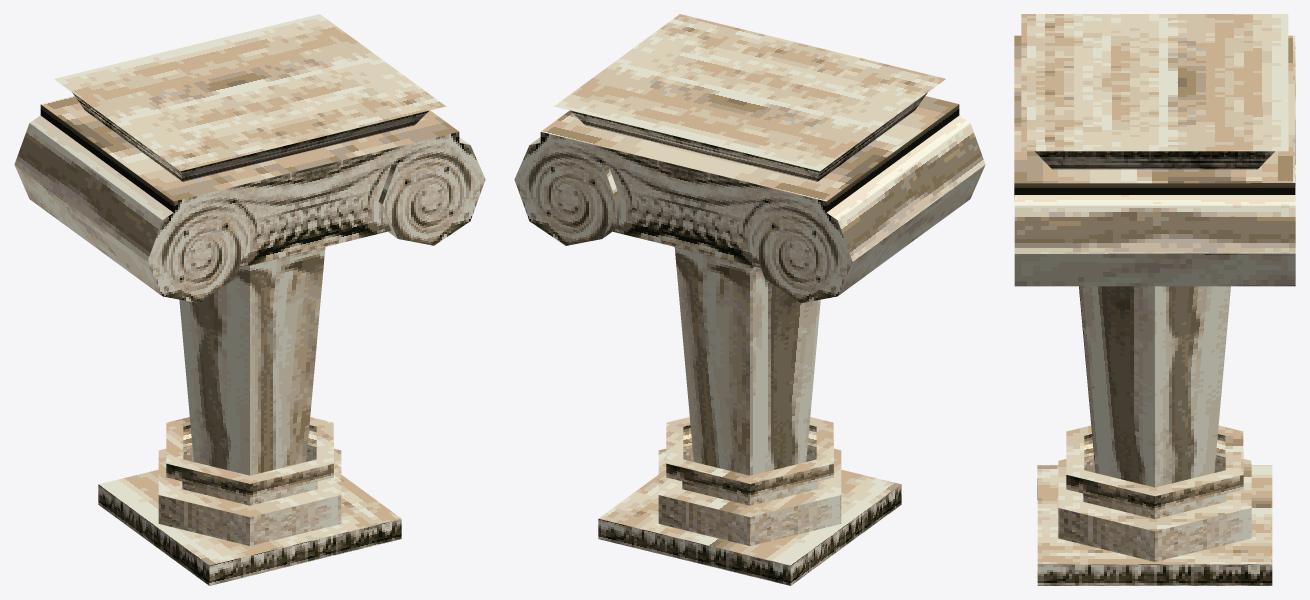
Rendered from coumn.glb.
The picture shows the model from 3 angles, left to right: view 1: azimuth 30°, elevation 25°; view 2: azimuth 150°, elevation 25°; view 3: azimuth 270°, elevation 25°; orthographic projection. The views are drawn at different scales.
Visible parts, largest first — view 1: Cylinder.003, Cylinder.001; view 2: Cylinder.003, Cylinder.001; view 3: Cylinder.003, Cylinder.001.
Part boxes in pixels (x1,y1,x2,y2): Cylinder.003: (14, 14, 485, 303); Cylinder.001: (98, 247, 401, 585); Cylinder.003: (514, 14, 985, 303); Cylinder.001: (598, 247, 901, 585); Cylinder.003: (1014, 14, 1295, 286); Cylinder.001: (1037, 286, 1272, 585).
Bounding box in the file's own units: 2.4 × 2.91 × 1.64.
1 material, 1 textured.
